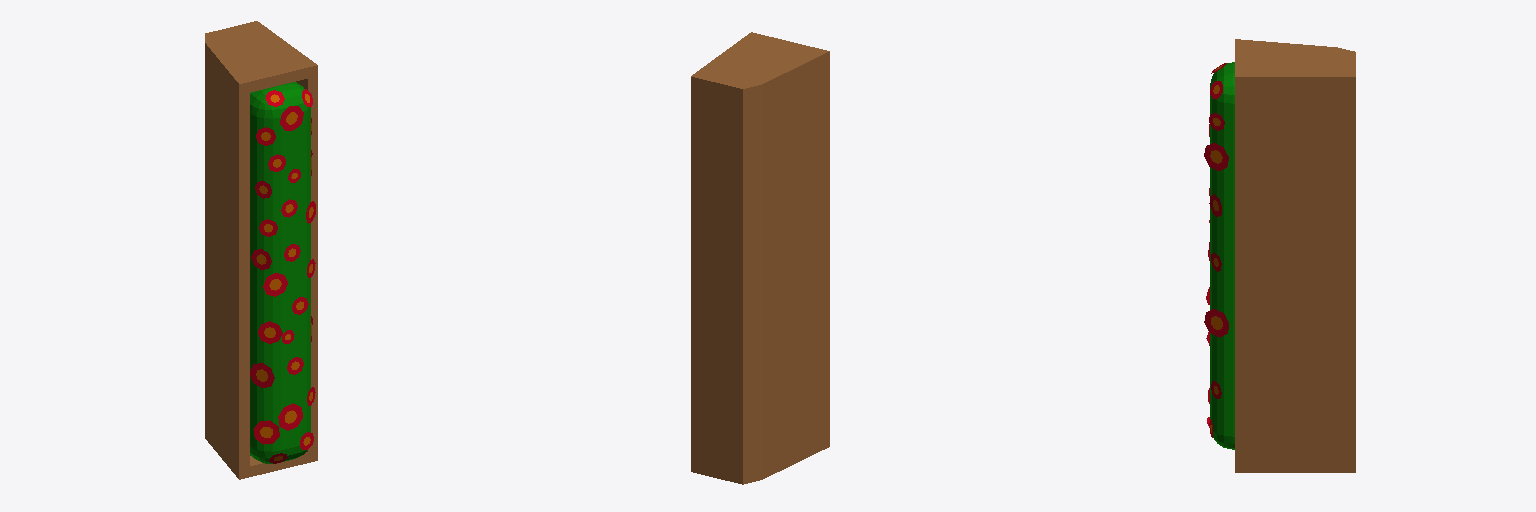
File: flower_box_wall.obj
3 views of the same model, side by side, from view 1: azimuth 30°, elevation 25°; view 2: azimuth 150°, elevation 25°; view 3: azimuth 270°, elevation 25° (orthographic).
Visible parts, largest first — view 1: Cube, Cube.001; view 2: Cube; view 3: Cube, Cube.001.
Boxes of the visible parts, <box> form: Cube: <box>205,21,317,479</box>; Cube.001: <box>250,82,310,463</box>; Cube: <box>691,32,829,484</box>; Cube: <box>1235,39,1355,472</box>; Cube.001: <box>1210,62,1234,449</box>.
Size of the model in its own units: 0.75 by 3.6 by 1.25.